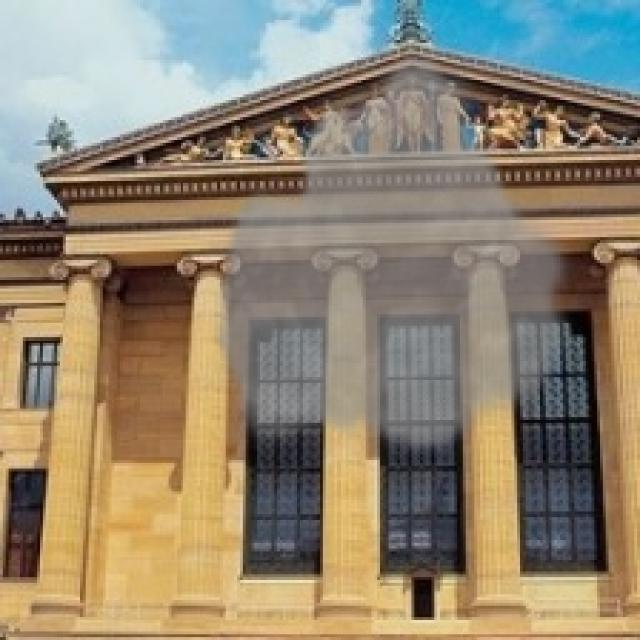smoke: (209, 43, 580, 457)
